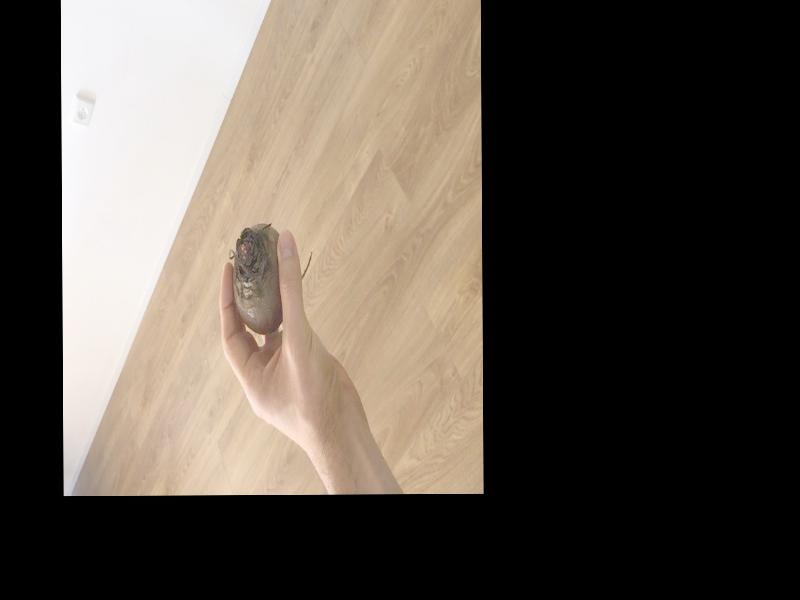Beet: (230, 222, 312, 333)
